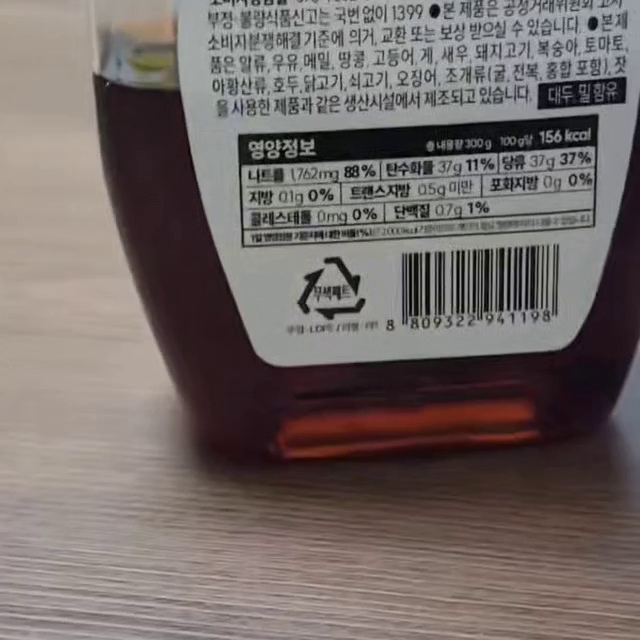ColorlessPet: (296, 256, 366, 322)
